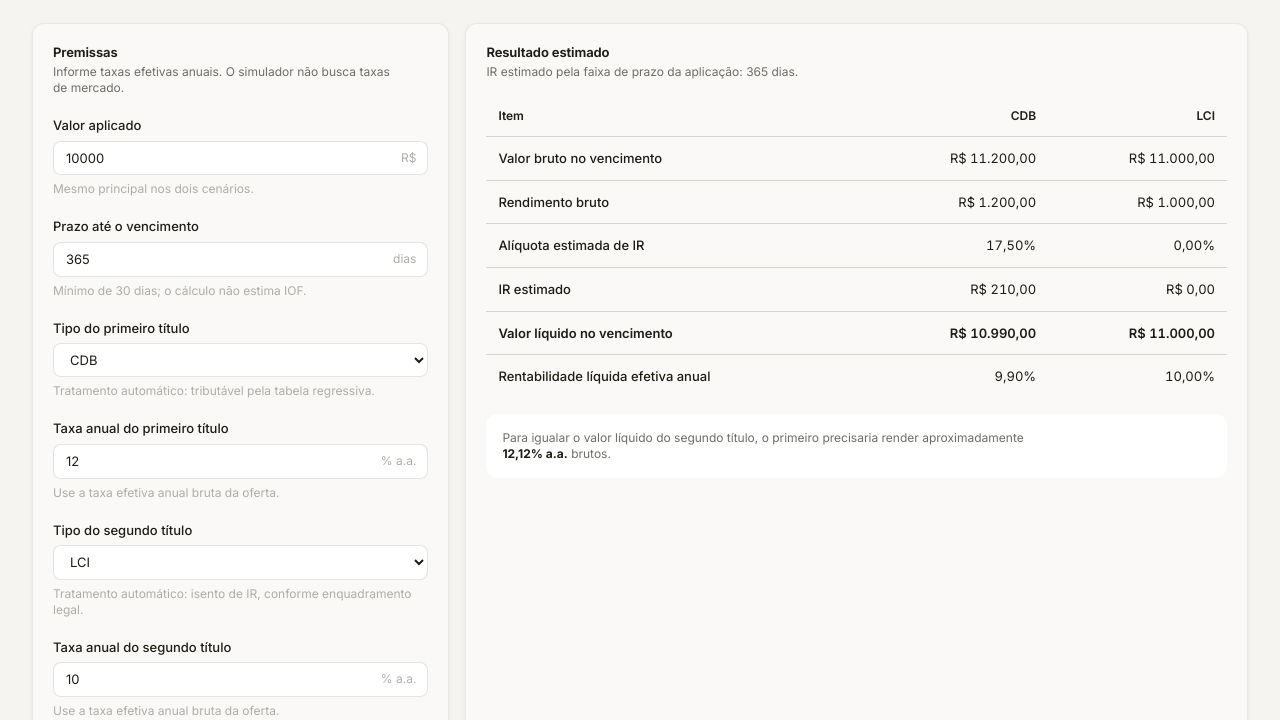
Test: FixedIncomeCalculatorPage › keeps invalid assumptions visible and blocks the result
Replace the text in the number field named "Prazo até o vencimento" with "29": (241, 259) [53,242,428,277]
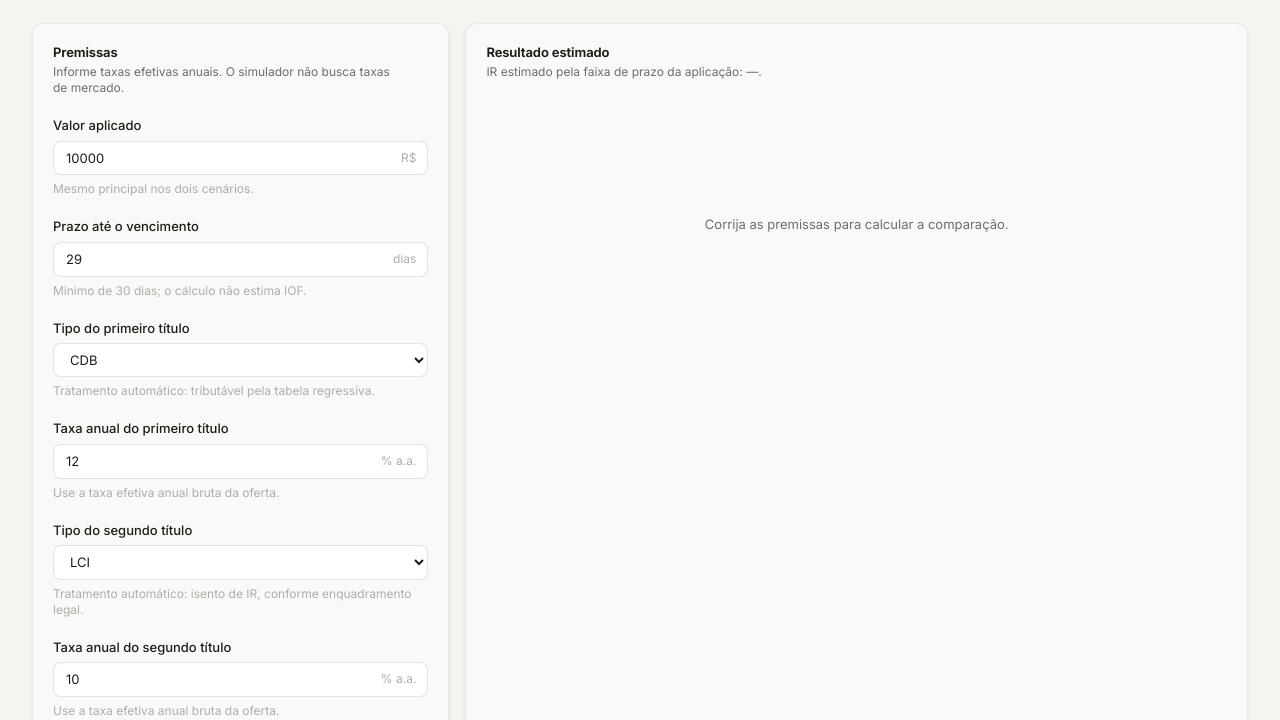
Result: the text "Corrija as premissas para calcular a comparação." is shown at [705,216,1009,232]
